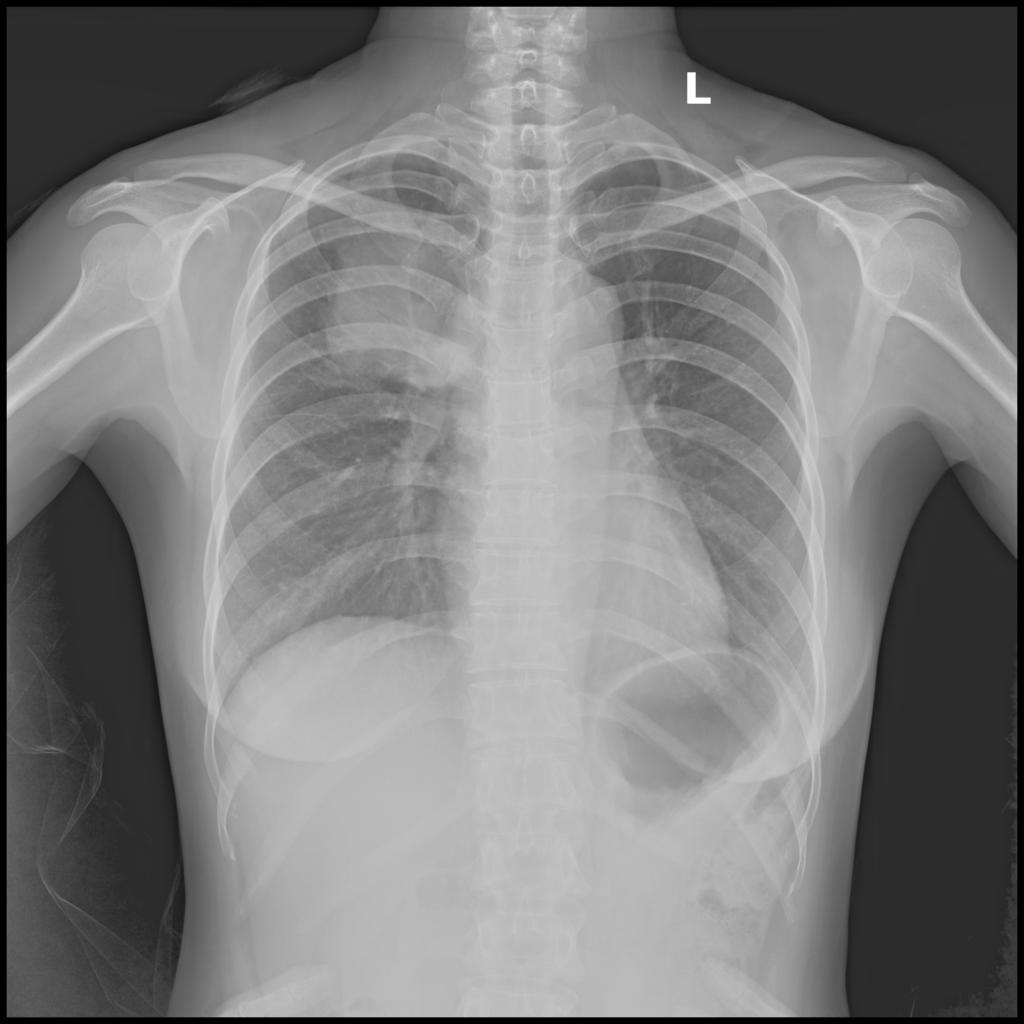Nodule: (324, 215, 509, 395)
